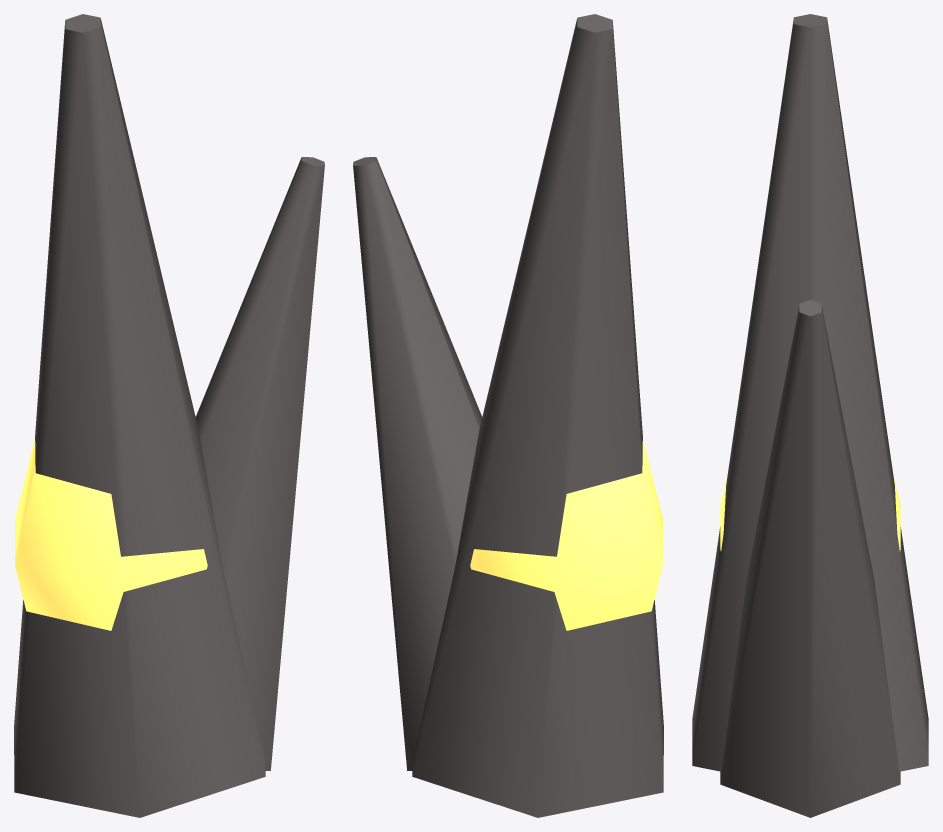
File: crystal_spire.glb
The picture shows the model from 3 angles, left to right: view 1: azimuth 30°, elevation 25°; view 2: azimuth 150°, elevation 25°; view 3: azimuth 270°, elevation 25°; orthographic projection. The views are drawn at different scales.
Visible parts, largest first — view 1: volcanic_spire, magma_core; view 2: volcanic_spire, magma_core; view 3: volcanic_spire, magma_core.
Part boxes in pixels (x1,y1,x2,y2): volcanic_spire: (14, 14, 324, 817); magma_core: (15, 439, 207, 630); volcanic_spire: (353, 14, 663, 817); magma_core: (470, 439, 662, 630); volcanic_spire: (692, 14, 928, 817); magma_core: (720, 475, 900, 550).
Bounding box in the file's own units: 2.1 × 4.91 × 1.47.
